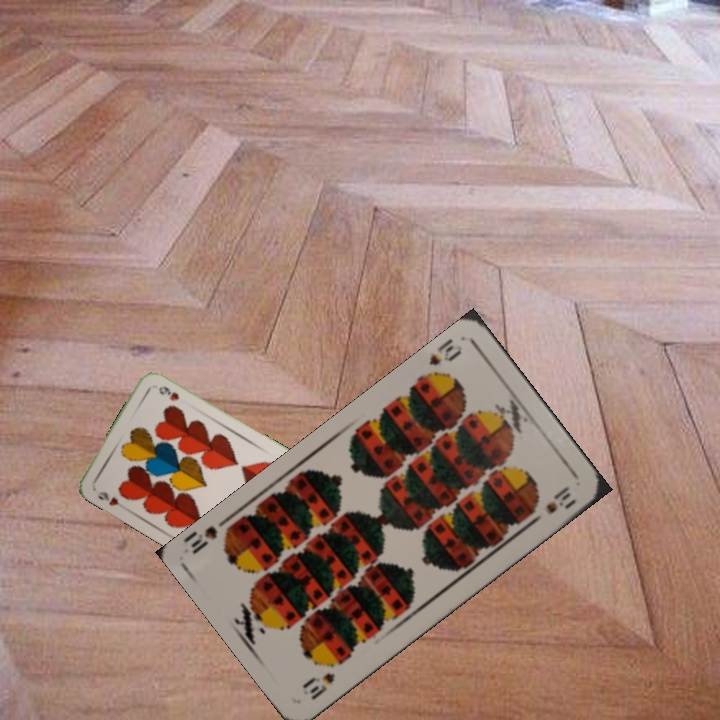H9: (93, 487, 122, 508)
S10: (418, 335, 465, 381), (299, 668, 338, 703)
